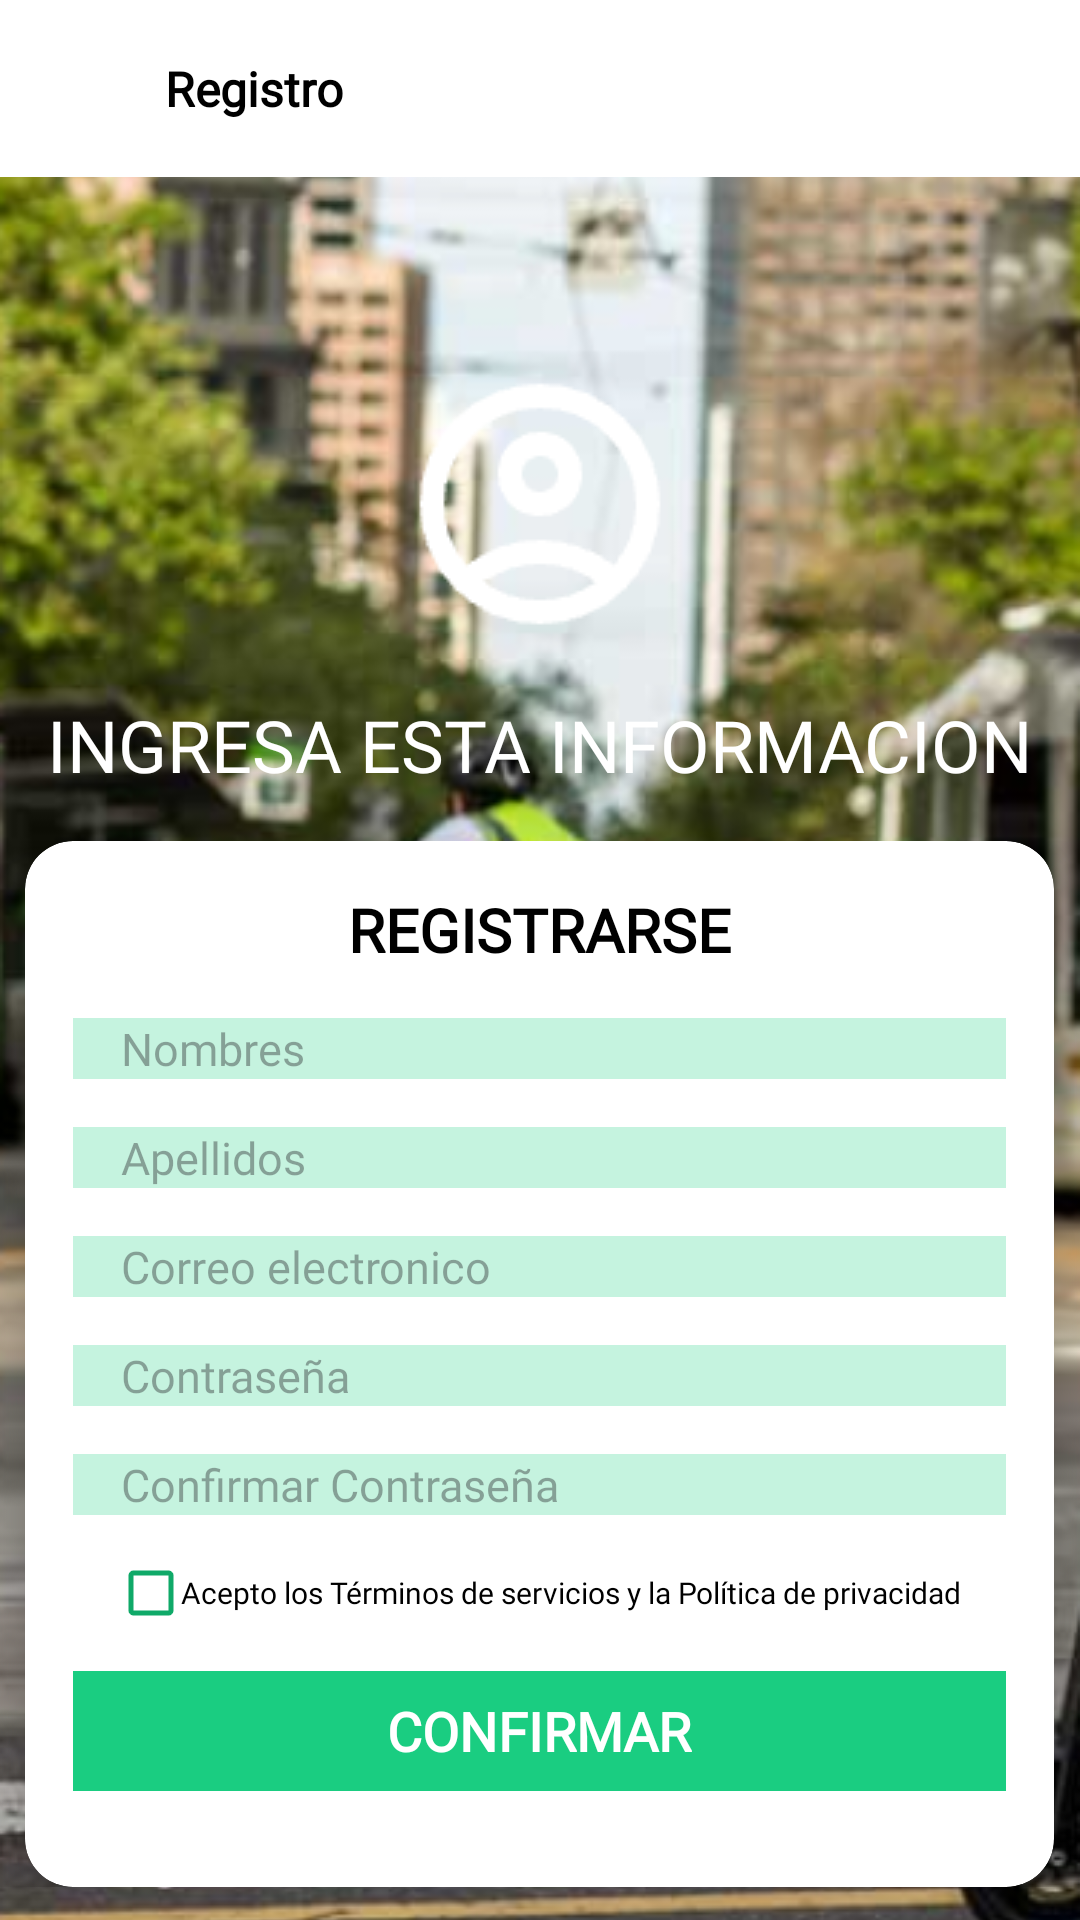

Where to tap for icons on this 1080w x 1920h app screen, as [x,y]:
Checkbox: [151,1593]
Profile Circle: [530,504]
